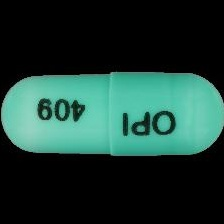50090-1528: (0, 0, 224, 224)
